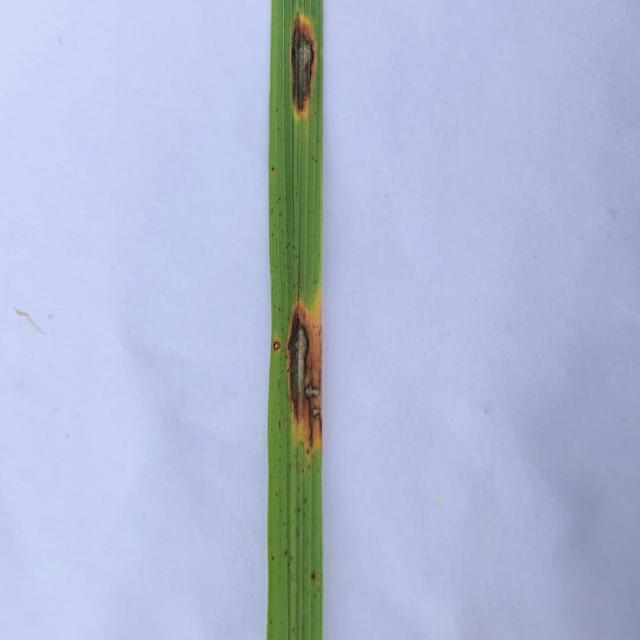leaf blast: (282, 298, 314, 441), (286, 10, 317, 124), (303, 376, 322, 446)
